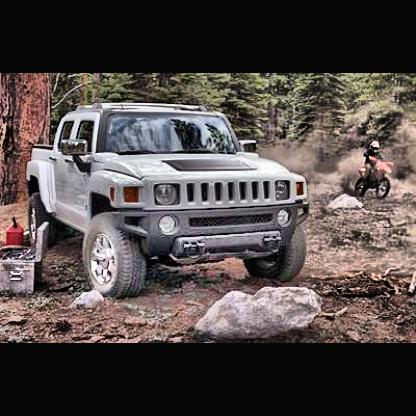HUMMER H3T Crew Cab 2010: (28, 100, 312, 303)
